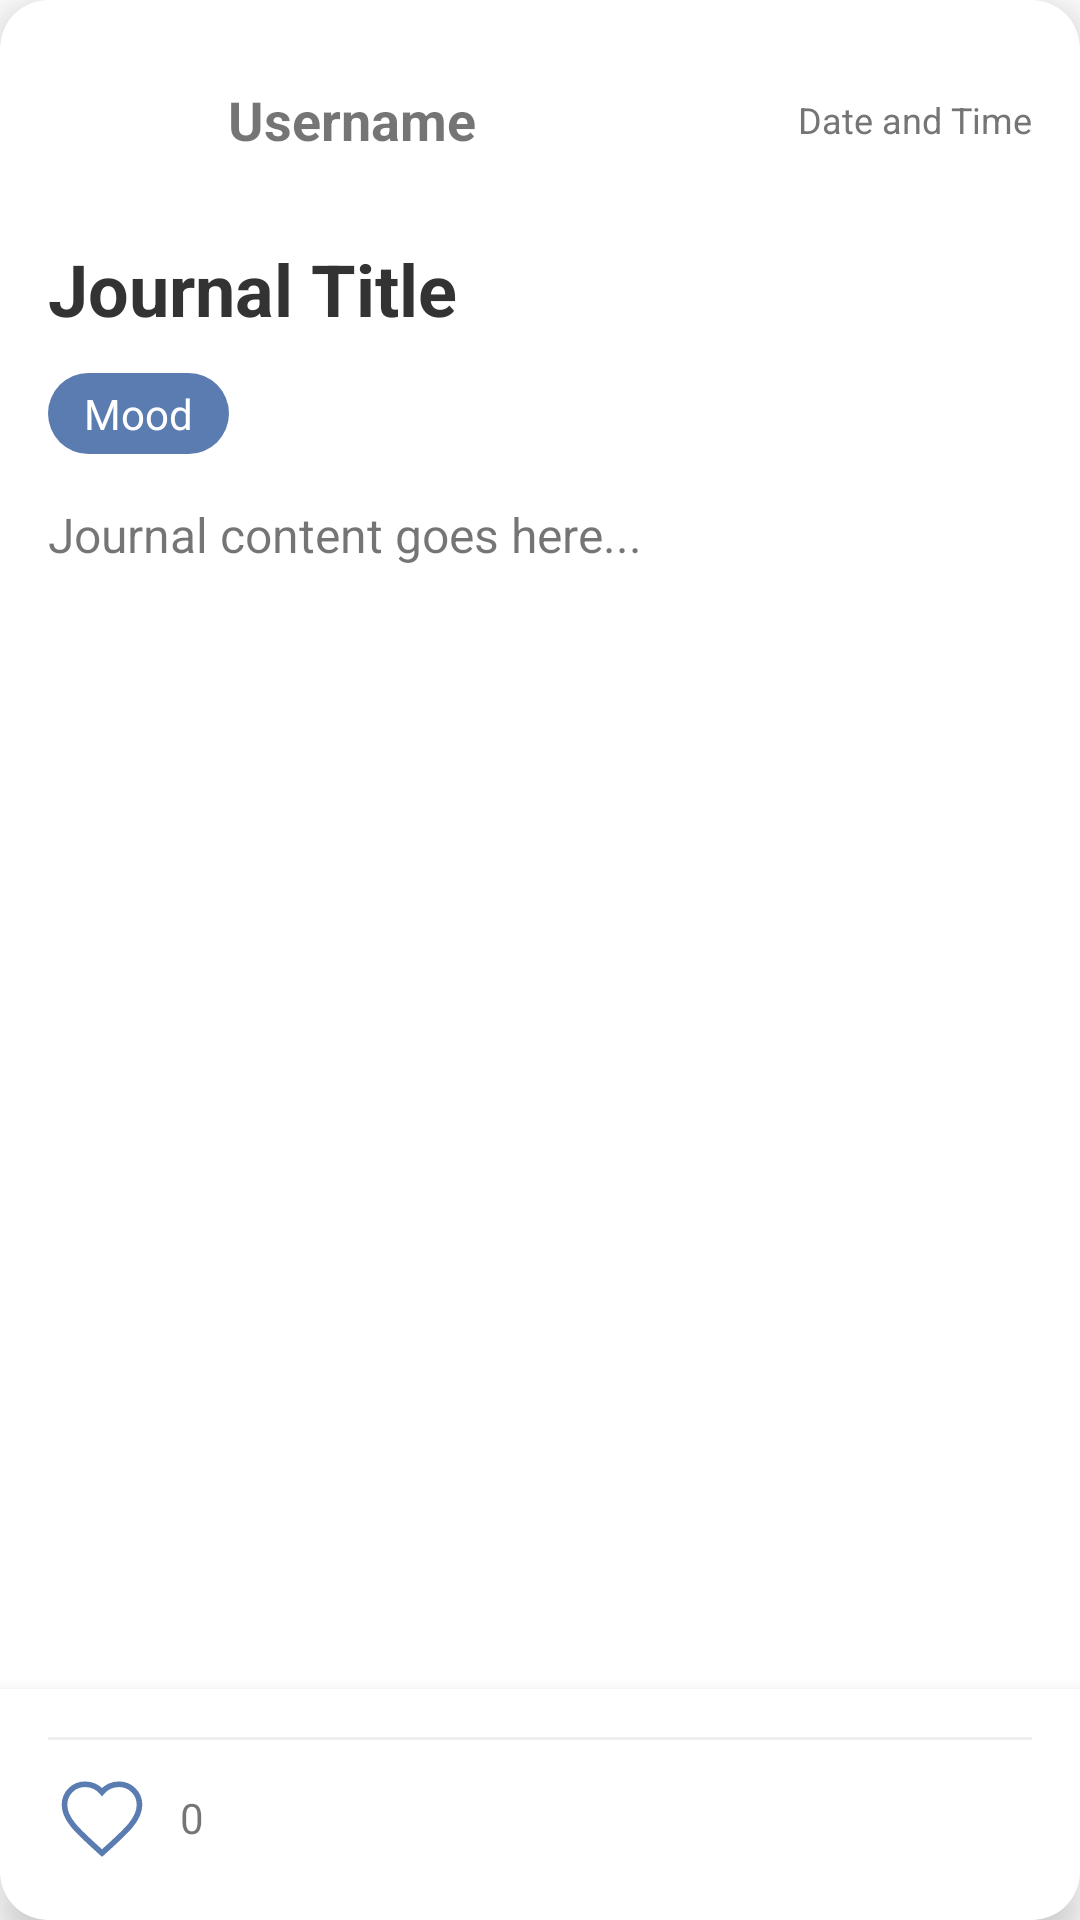

Icon click points for this 1080x1920 phone screenshot, format point (x, y):
Like: point (102, 1819)
